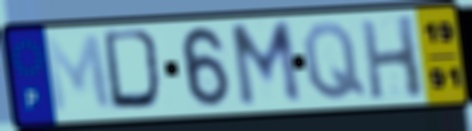6: (179, 23, 235, 112)
D: (100, 27, 169, 115)
H: (357, 12, 427, 102)
M: (226, 18, 306, 111), (41, 32, 116, 117)
Q: (300, 19, 369, 103)
